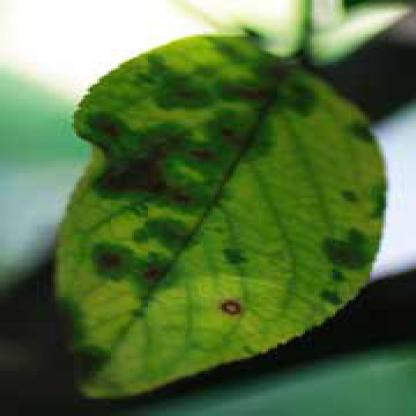Apple Scab Leaf: (44, 27, 395, 414)
